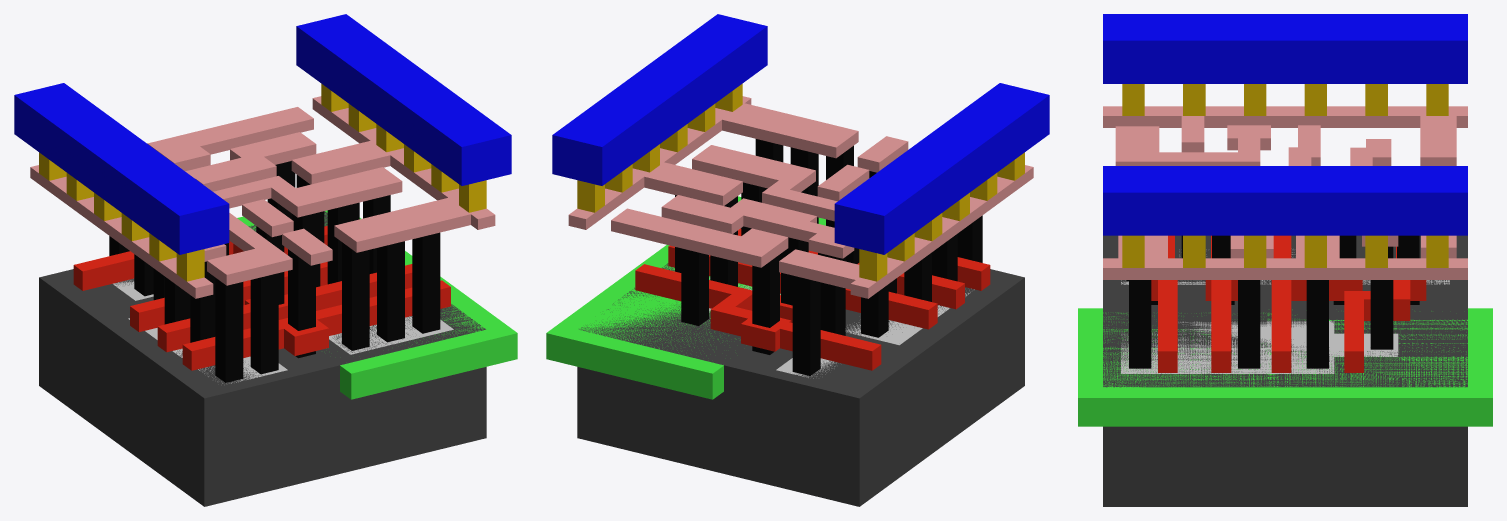
File: sky130_fd_sc_hd__o21bai_1.obj
3 renders of one model, left to right at view 1: azimuth 30°, elevation 25°; view 2: azimuth 150°, elevation 25°; view 3: azimuth 270°, elevation 25°, orthographic. The views are drawn at different scales.
Visible parts, largest first — view 1: subs, metal1, li, licon, poly, nwell, mcon, tap, diff; view 2: subs, metal1, li, licon, nwell, poly, mcon, diff; view 3: metal1, subs, nwell, li, poly, licon, mcon, tap.
Boxes of the visible parts, left/top/right/bottom form: subs: left=39, top=211, right=486, bottom=506; metal1: left=14, top=14, right=511, bottom=254; li: left=30, top=96, right=495, bottom=298; licon: left=109, top=161, right=440, bottom=382; poly: left=73, top=226, right=450, bottom=370; nwell: left=237, top=210, right=517, bottom=399; mcon: left=39, top=83, right=486, bottom=281; tap: left=329, top=316, right=453, bottom=354; diff: left=113, top=280, right=287, bottom=383; subs: left=577, top=263, right=1024, bottom=506; metal1: left=552, top=14, right=1049, bottom=254; li: left=568, top=96, right=1033, bottom=298; licon: left=675, top=139, right=982, bottom=375; nwell: left=546, top=196, right=825, bottom=399; poly: left=635, top=228, right=990, bottom=370; mcon: left=577, top=83, right=1024, bottom=281; diff: left=776, top=288, right=974, bottom=378; metal1: left=1103, top=14, right=1467, bottom=235; subs: left=1103, top=235, right=1467, bottom=506; nwell: left=1078, top=308, right=1492, bottom=426; li: left=1103, top=106, right=1467, bottom=279; poly: left=1151, top=235, right=1426, bottom=372; licon: left=1126, top=235, right=1419, bottom=368; mcon: left=1122, top=84, right=1448, bottom=267; tap: left=1121, top=320, right=1398, bottom=373.
Bounding box in the file's own units: 3.2 × 2.74 × 3.14.
